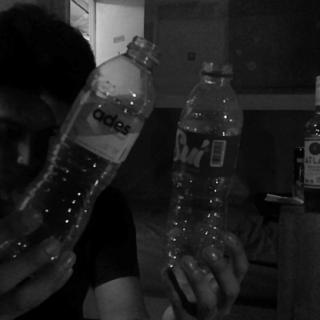plastic_bottles: (3, 33, 164, 259), (166, 64, 246, 278)
